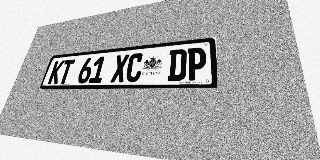1: (88, 56, 107, 83)
6: (76, 57, 95, 83)
C: (125, 53, 144, 82)
D: (167, 49, 187, 81)
K: (47, 60, 65, 84)
P: (186, 47, 206, 81)
T: (57, 59, 75, 84)
X: (110, 54, 129, 83)
